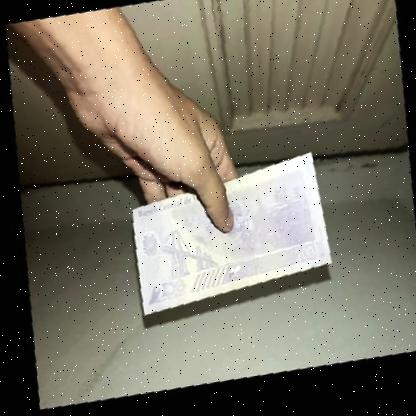two_hundred-back-vef: (119, 154, 333, 321)
